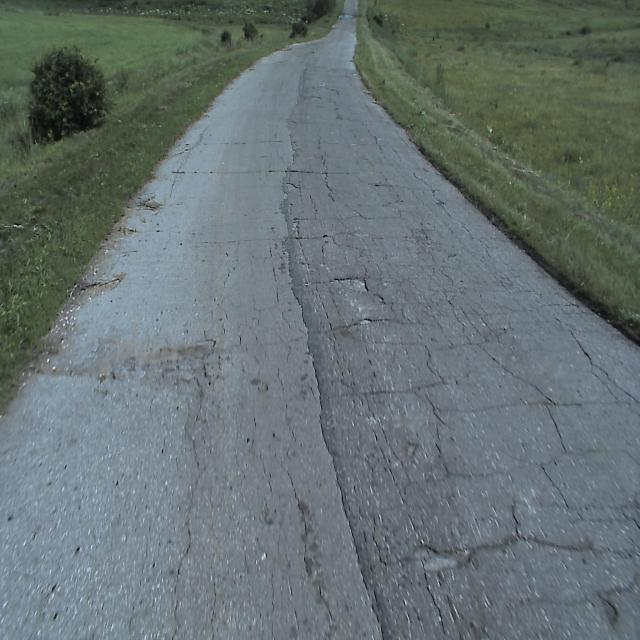road: (0, 0, 640, 639)
